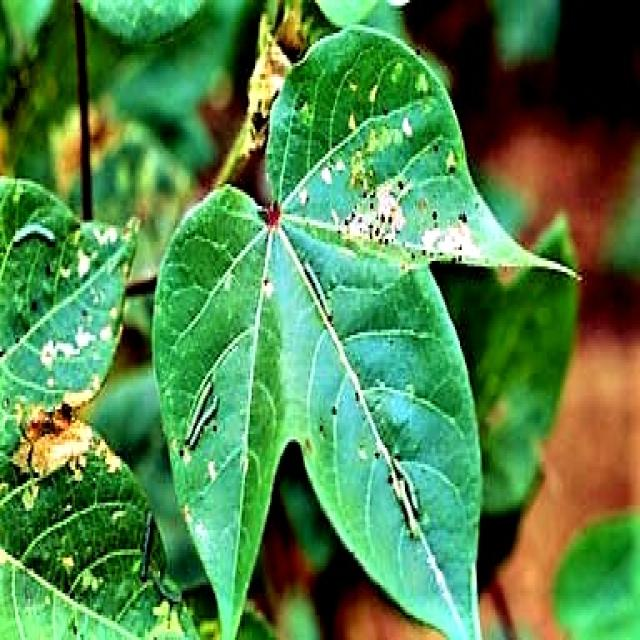armyworm: (181, 382, 226, 449), (392, 457, 426, 518)
